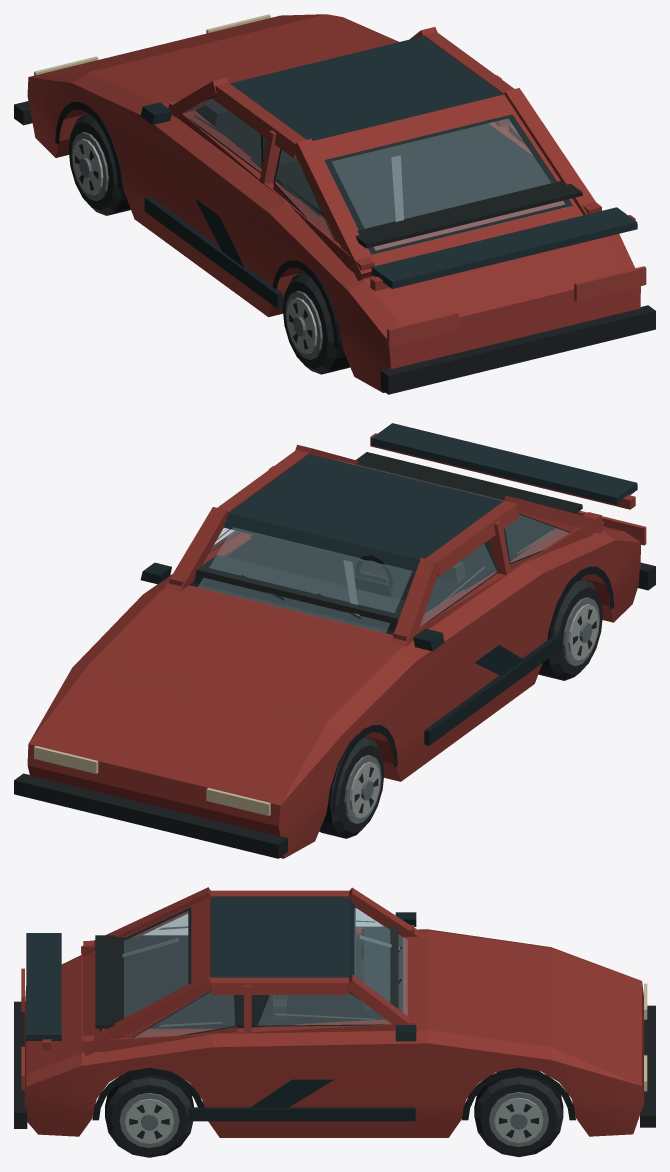
File: sportive_rouge_corail.glb
The picture shows the model from 3 angles, top to bottom: view 1: azimuth 30°, elevation 25°; view 2: azimuth 150°, elevation 25°; view 3: azimuth 270°, elevation 25°; orthographic projection. The views are drawn at different scales.
Visible parts, largest first — view 1: proposition_sportive_rouge_corail; view 2: proposition_sportive_rouge_corail; view 3: proposition_sportive_rouge_corail.
Boxes of the visible parts, x1,y1,x2,y2 form: proposition_sportive_rouge_corail: [14, 14, 655, 394]; proposition_sportive_rouge_corail: [14, 423, 655, 858]; proposition_sportive_rouge_corail: [14, 887, 655, 1157].
Size of the model in its own units: 1.97 by 1.28 by 4.38.
